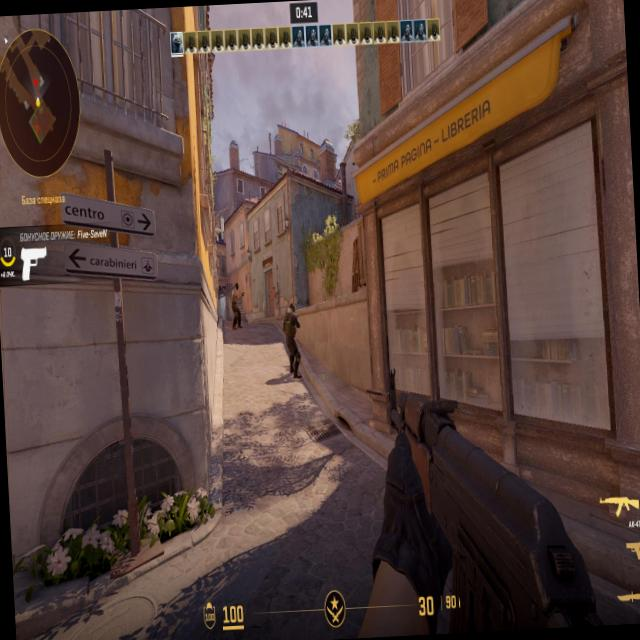CT: (284, 300, 300, 373)
CT_heat: (288, 302, 294, 319)
T: (232, 280, 241, 329)
T_heat: (234, 284, 240, 289)
